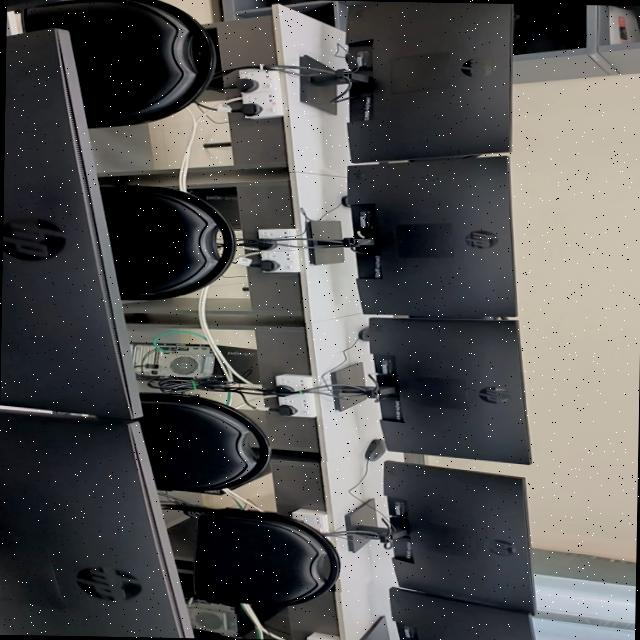Chair: (20, 0, 213, 128), (161, 499, 339, 607), (100, 185, 234, 300), (135, 393, 269, 493)
Cpu: (127, 341, 258, 383), (184, 596, 284, 636), (195, 188, 239, 230)
Monitor: (0, 29, 139, 417), (0, 410, 192, 638), (298, 1, 512, 163), (306, 156, 515, 318), (322, 317, 529, 464), (382, 460, 533, 612), (359, 587, 534, 640), (5, 0, 61, 12)
Mouse: (364, 439, 386, 461), (358, 326, 368, 341), (340, 195, 348, 207)
